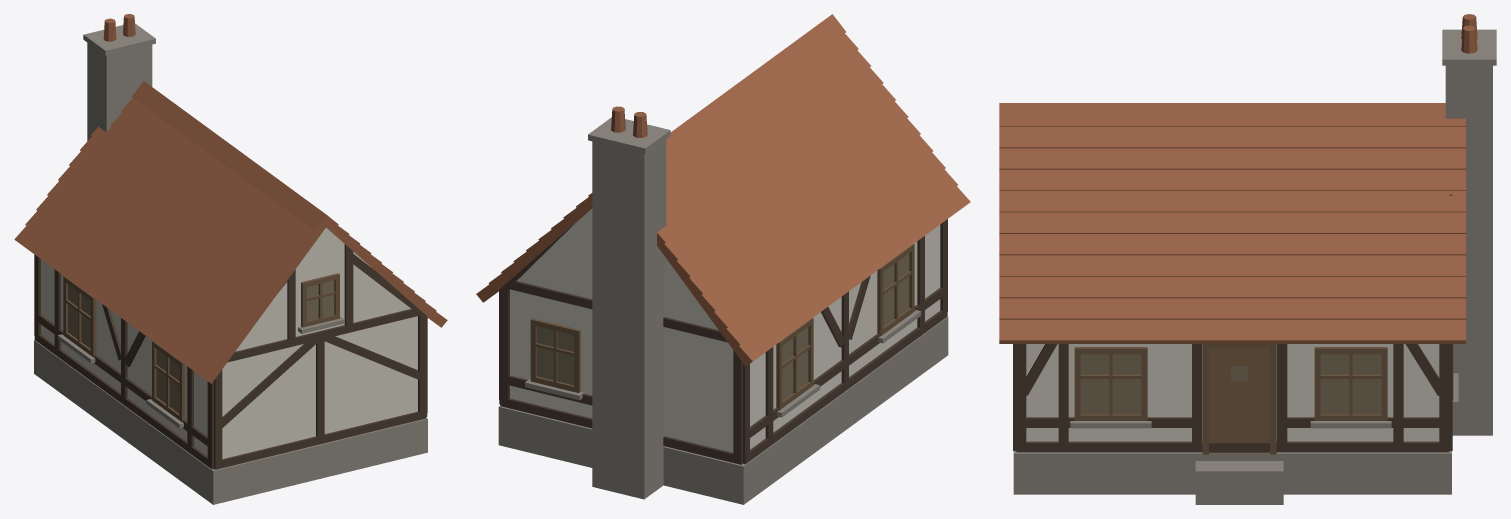
File: house_cottage.glb
The picture shows the model from 3 angles, left to right: view 1: azimuth 30°, elevation 25°; view 2: azimuth 150°, elevation 25°; view 3: azimuth 270°, elevation 25°; orthographic projection. The views are drawn at different scales.
Parts seen in each view (by area): view 1: house_cottage_lod0; view 2: house_cottage_lod0; view 3: house_cottage_lod0.
Boxes of the visible parts, x1,y1,x2,y2 form: house_cottage_lod0: (14, 14, 447, 504); house_cottage_lod0: (476, 14, 970, 504); house_cottage_lod0: (999, 14, 1496, 504).
Size of what is drawn, in the model's own units: 5.13 by 6.52 by 7.35.
